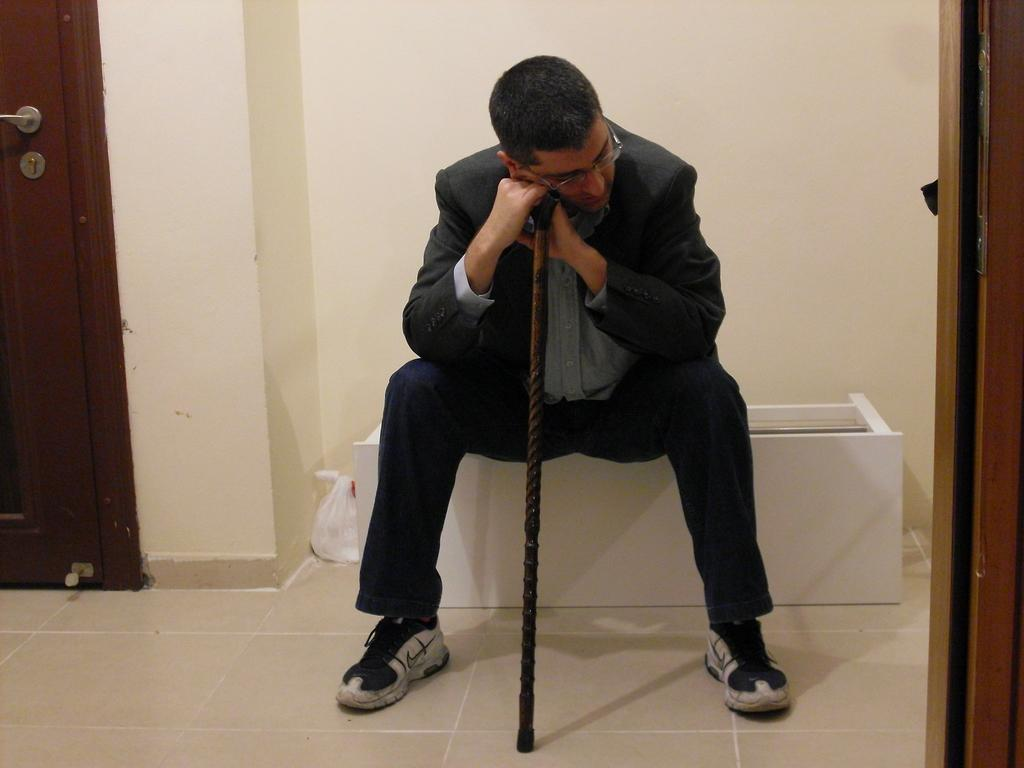Sem Máscara: (529, 112, 612, 211)
